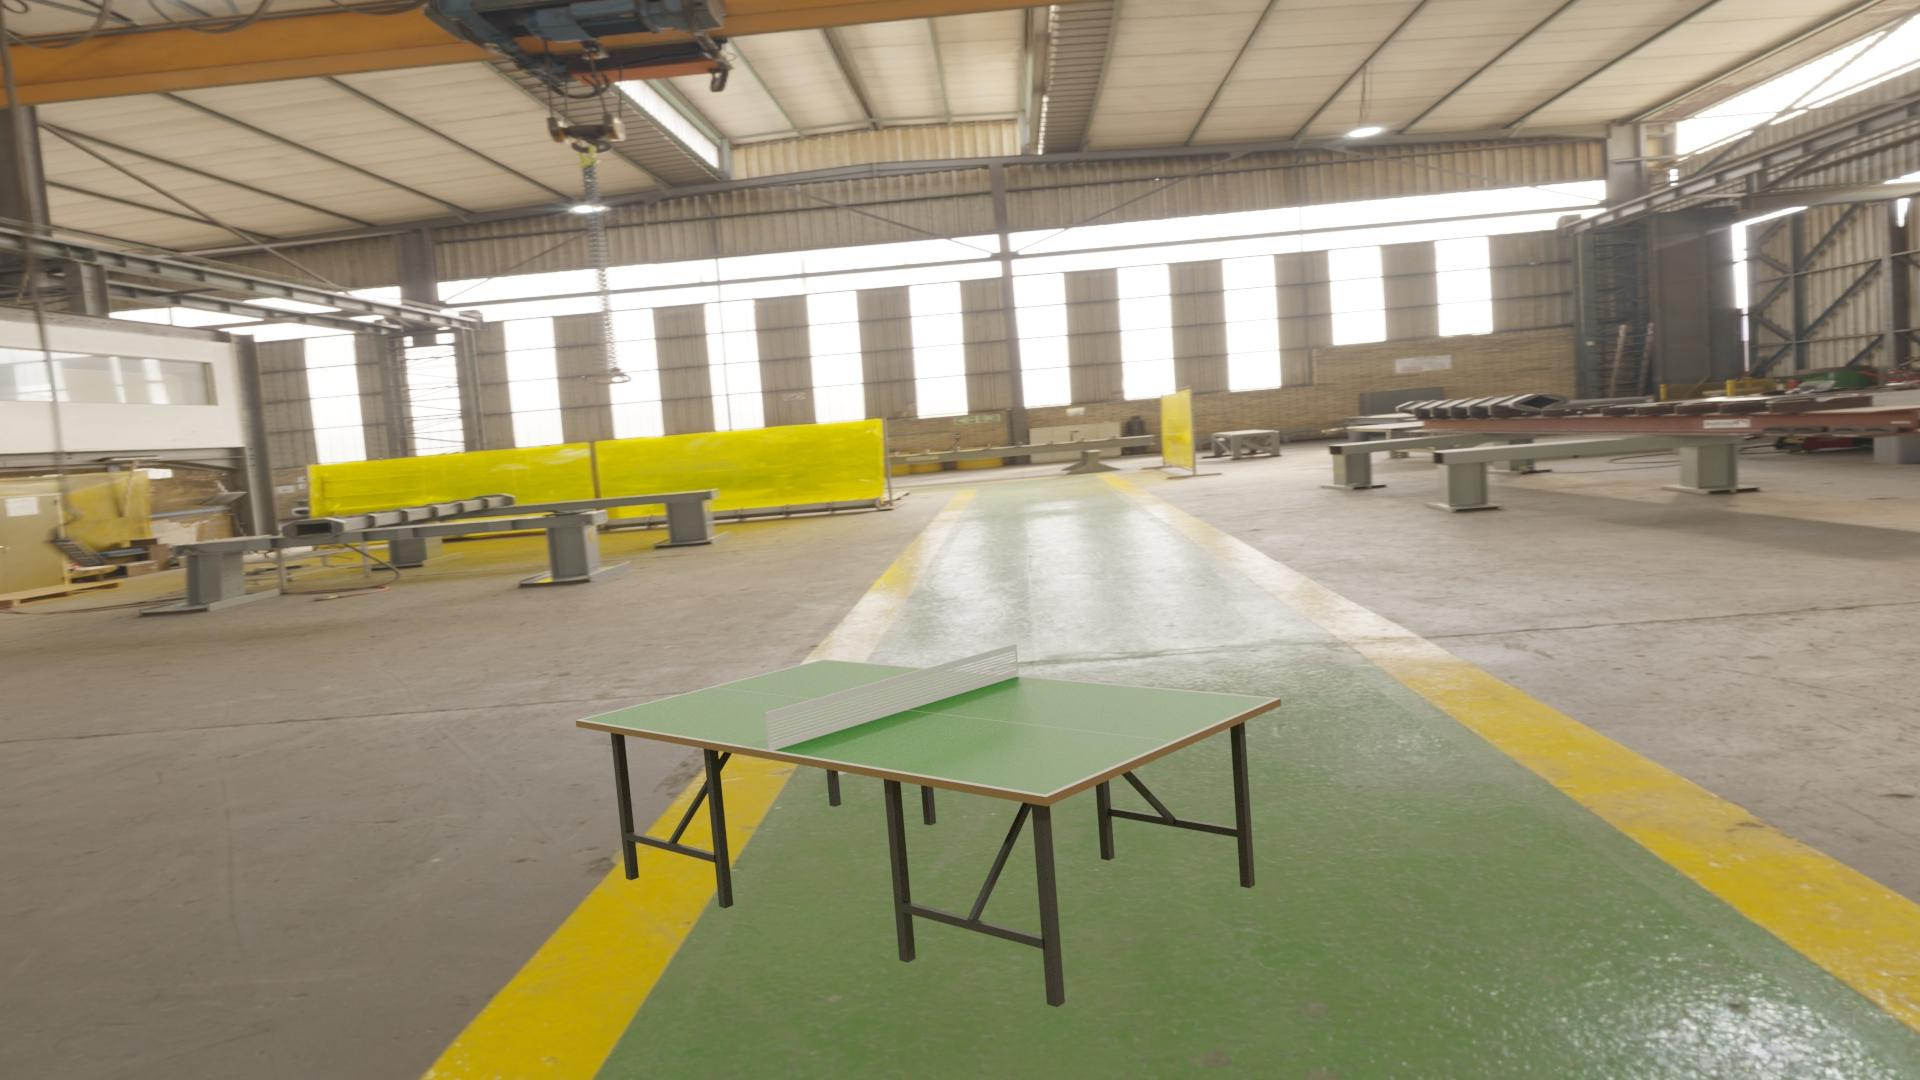table: (582, 659, 1274, 795)
